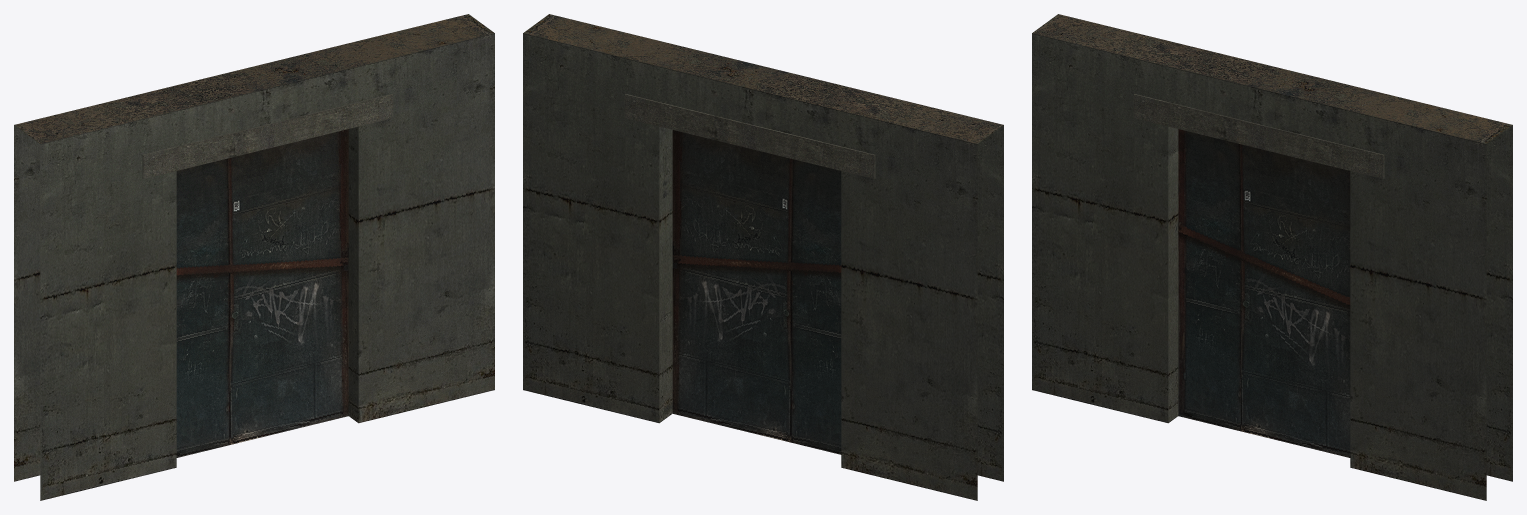
File: doorway_rg_1_wide.glb
3 views of the same model, side by side, from view 1: azimuth 30°, elevation 25°; view 2: azimuth 150°, elevation 25°; view 3: azimuth 330°, elevation 25° (orthographic).
Parts seen in each view (by area): view 1: doorway_rg_1_wide; view 2: doorway_rg_1_wide; view 3: doorway_rg_1_wide.
Boxes of the visible parts, bbox=[...] form: doorway_rg_1_wide: bbox=[14, 14, 494, 500]; doorway_rg_1_wide: bbox=[523, 14, 1003, 500]; doorway_rg_1_wide: bbox=[1032, 14, 1512, 500].
Bounding box in the file's own units: 4 × 3 × 0.42.
4 materials, 4 textured.
